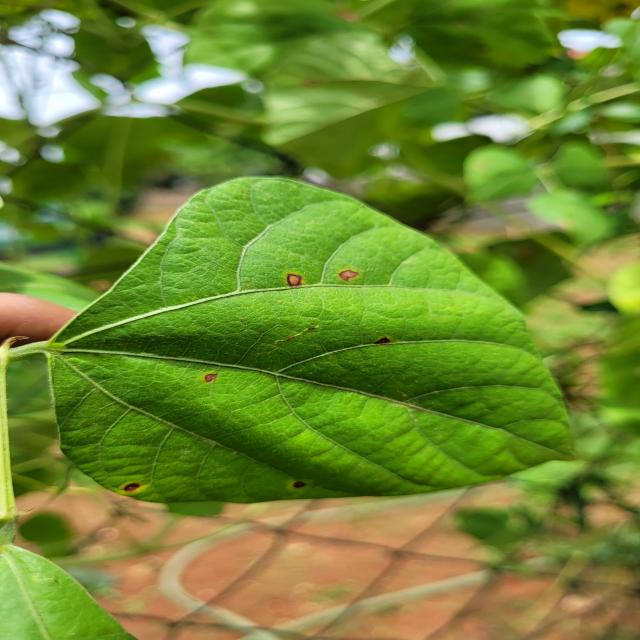Dolicos bean_cercospora leaf spot: (46, 173, 592, 502)
